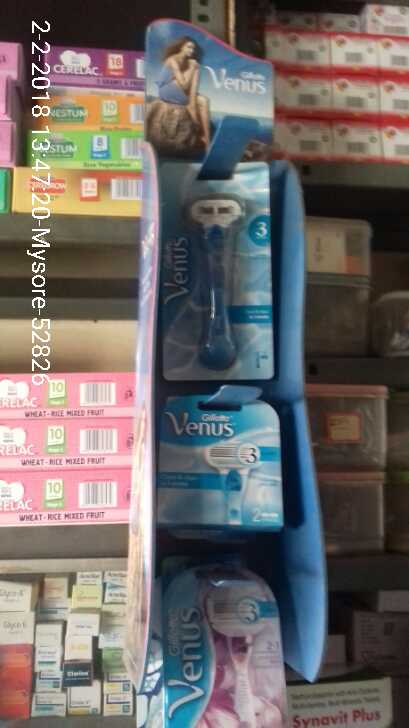venus: (159, 169, 274, 378), (165, 574, 295, 721), (157, 401, 283, 529)
